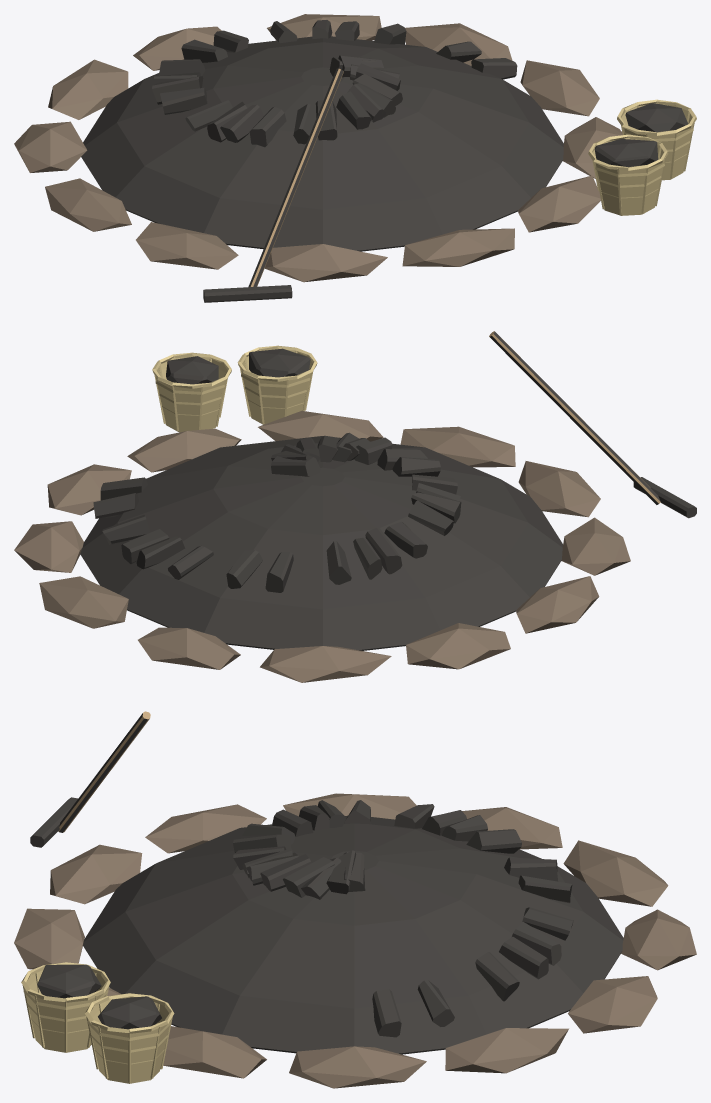
Rendered from asset_charcoal_clamp_spent.glb.
3 renders of one model, top to bottom at view 1: azimuth 30°, elevation 25°; view 2: azimuth 150°, elevation 25°; view 3: azimuth 270°, elevation 25°, orthographic. The views are drawn at different scales.
Visible parts, largest first — view 1: asset_charcoal_clamp_spent; view 2: asset_charcoal_clamp_spent; view 3: asset_charcoal_clamp_spent.
Boxes of the visible parts, x1=… form: asset_charcoal_clamp_spent: x1=14, y1=14, x2=696, y2=302; asset_charcoal_clamp_spent: x1=14, y1=331, x2=696, y2=682; asset_charcoal_clamp_spent: x1=14, y1=711, x2=696, y2=1088.
Size of the model in its own units: 2.78 by 0.8626 by 2.79.
